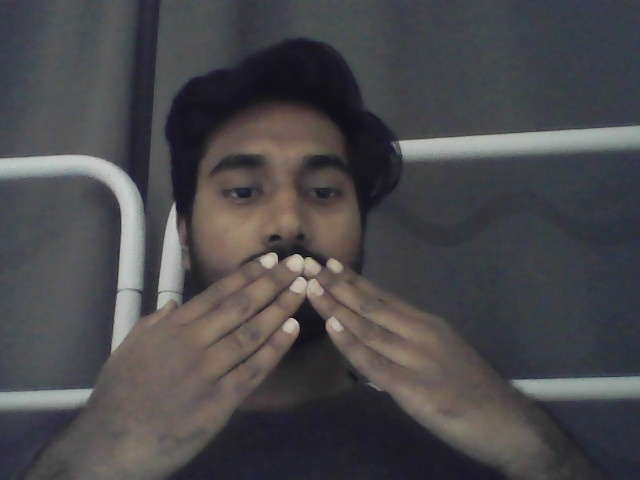thanks: (40, 251, 568, 473)
